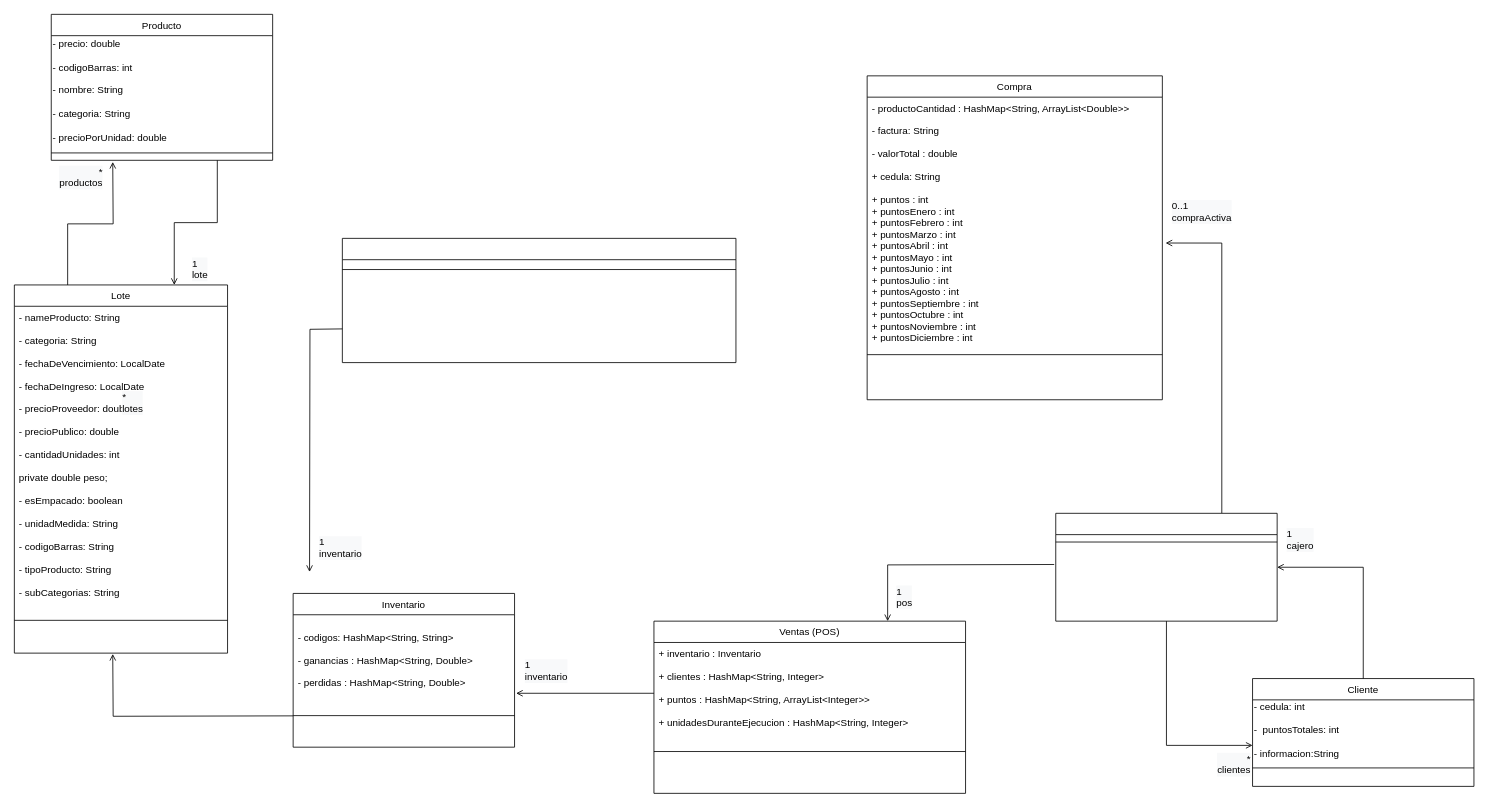
This 1488x808 diagram has some shape labels left out. Here are the shapes that lost their labels. From the top down, the centre of each, then its label:
(539,300): Encargado inventario
(1166,566): Cajero
